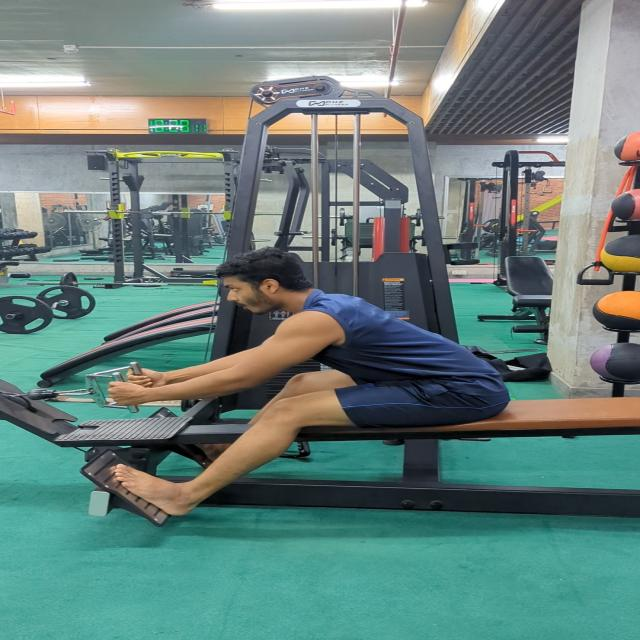Normal_RowingMachineExercise: (105, 248, 514, 519)
